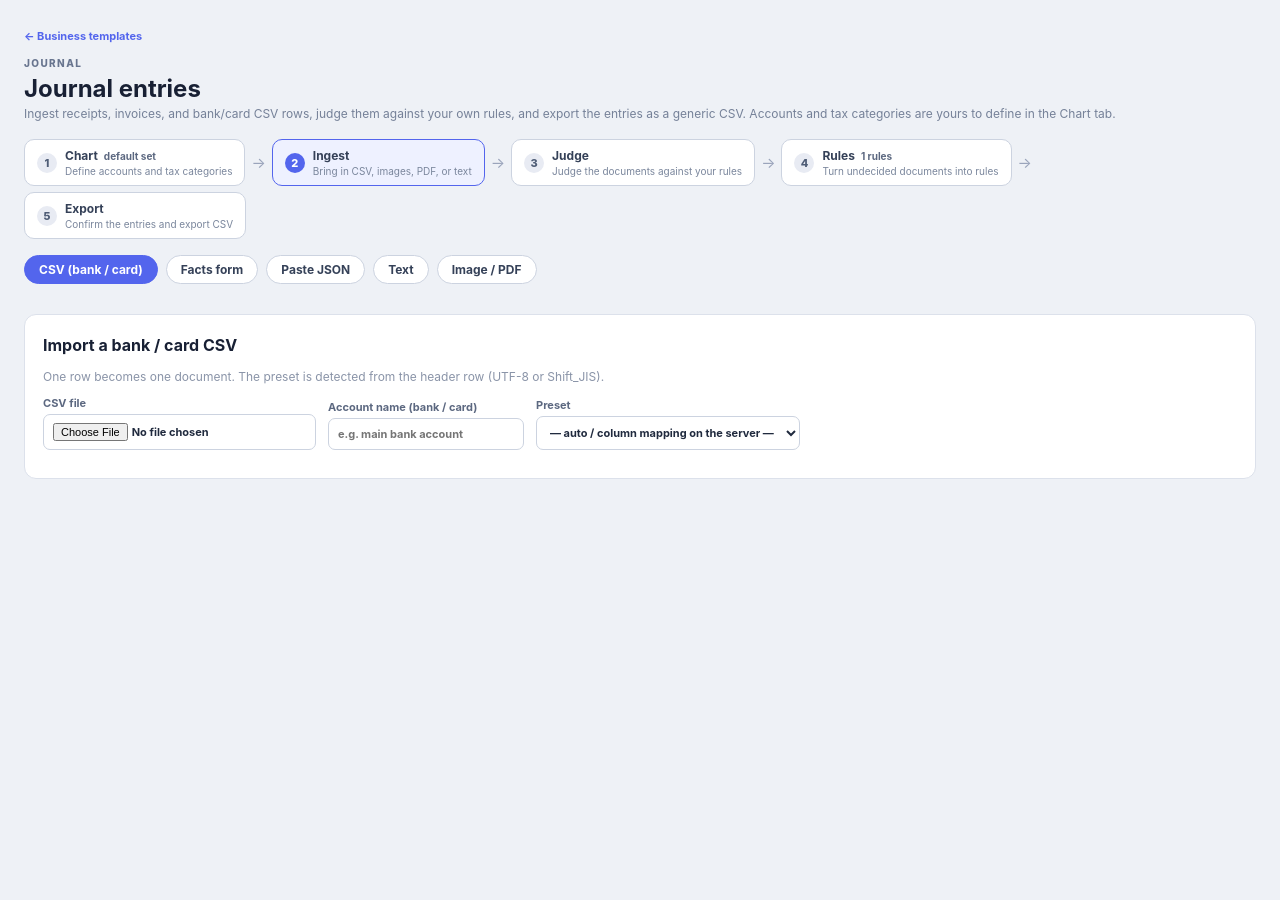
it: JournalPage › 正常: 未確定の「ルールを作る」はルールタブへ移り、帳票から名前と条件を埋める
This screenshot has width=1280, height=900.
Click the tab "Judge" at {"x": 633, "y": 162}, box [511,139,755,186]
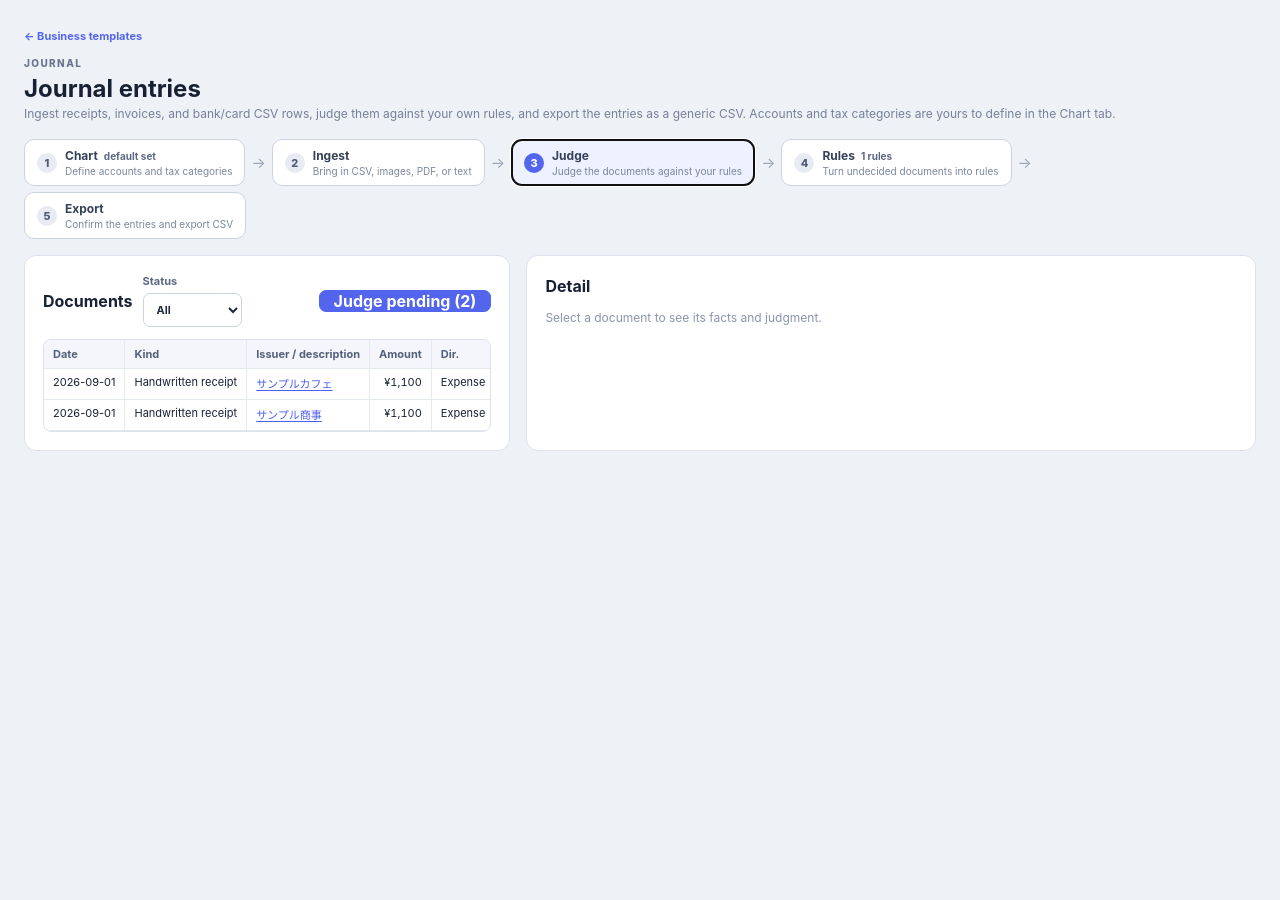
Click the button "サンプルカフェ" at {"x": 294, "y": 383}, box [256,375,332,391]
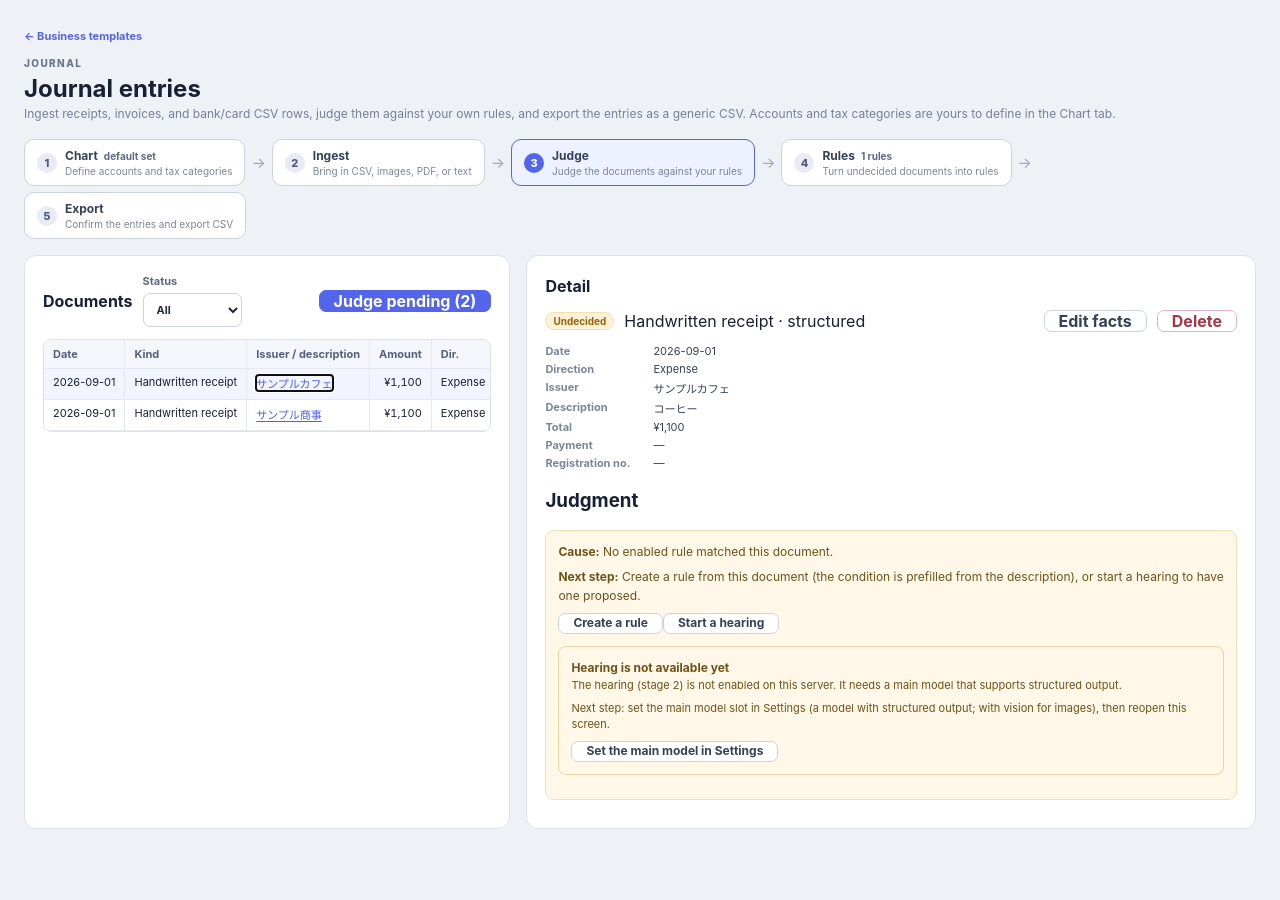
Click the button "Create a rule" at {"x": 611, "y": 624}, box [558,613,663,634]
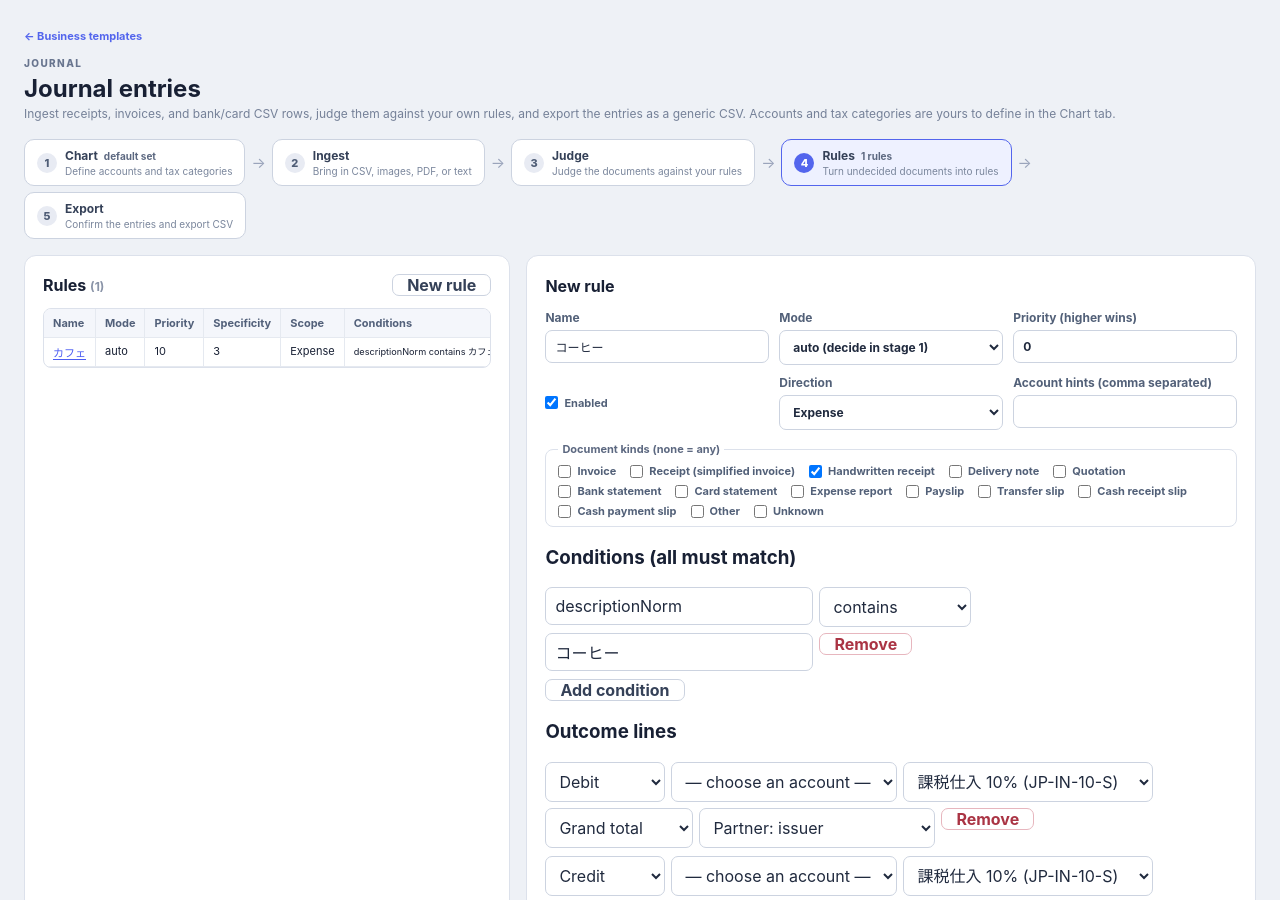
Expected: the field named "Rule name" holds "コーヒー", [545,330,769,363]
Expected: the field named "Condition 1 value" holds "コーヒー", [545,633,813,671]
